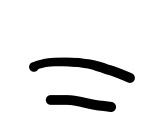eqv: (29, 58, 135, 112)
